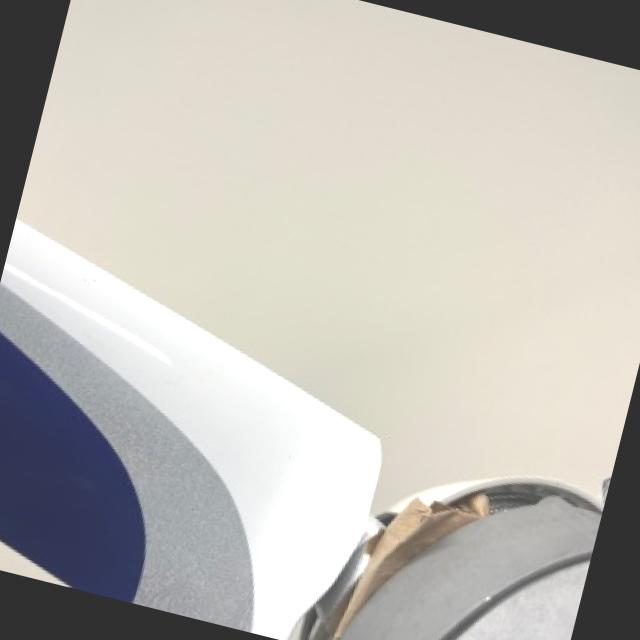healthy: (0, 218, 604, 640)
